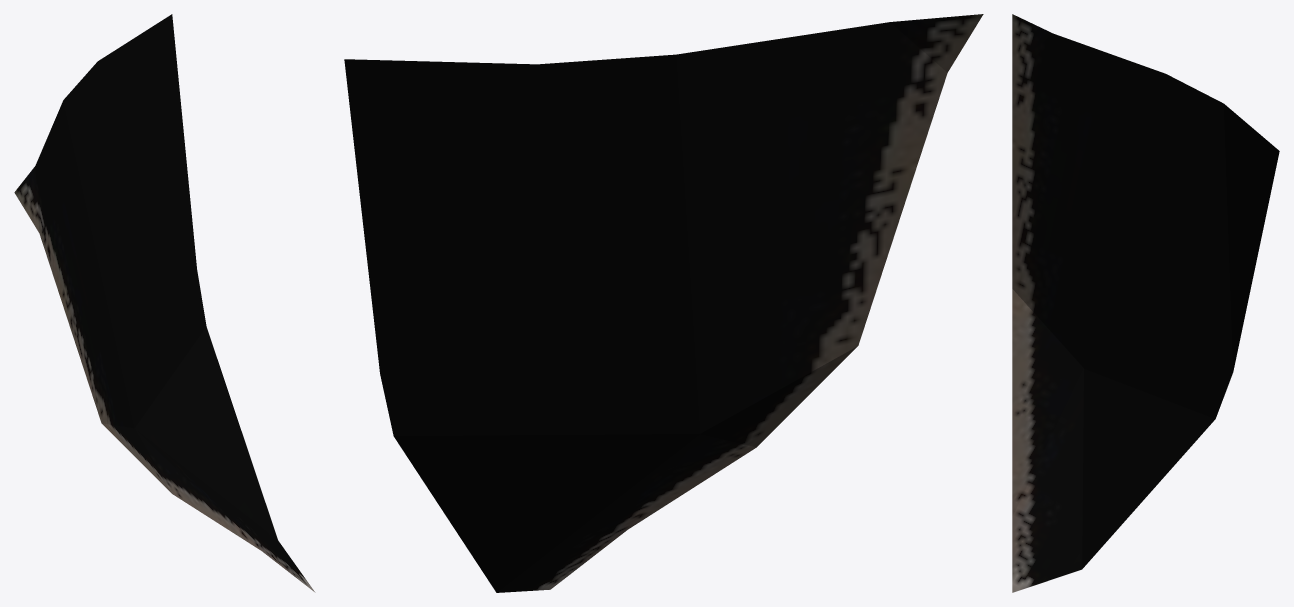
The picture shows the model from 3 angles, left to right: view 1: azimuth 30°, elevation 25°; view 2: azimuth 150°, elevation 25°; view 3: azimuth 270°, elevation 25°; orthographic projection. The views are drawn at different scales.
Size of the model in its own units: 1.55 by 2.32 by 1.27.
1 material, 1 textured.
